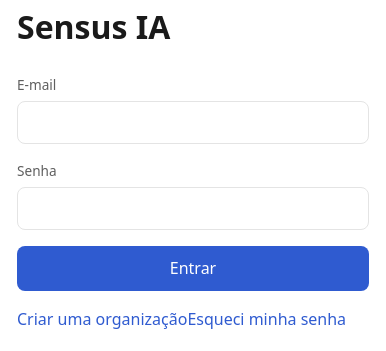
Test: AuthScreen, ramo de criar organização › não pede senha: ela nasce na tela de confirmação
Click the button "Criar uma organização" at (102, 320), box x1=17 y1=307 x2=187 y2=333
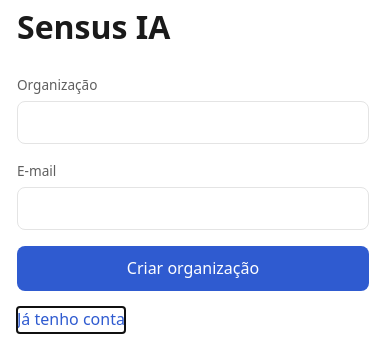
Expected: the field labelled "Organização" is shown, x1=17 y1=101 x2=369 y2=144
Expected: the label labelled "Senha" is gone
